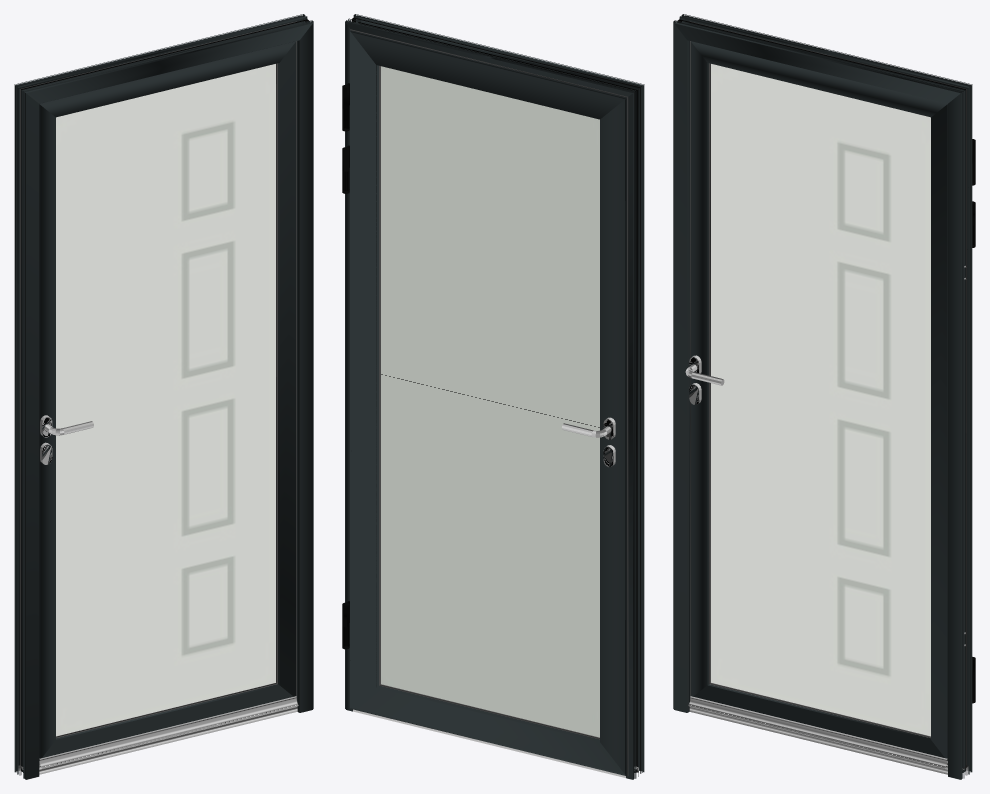
3 views of the same model, side by side, from view 1: azimuth 30°, elevation 25°; view 2: azimuth 150°, elevation 25°; view 3: azimuth 330°, elevation 25° (orthographic).
Parts seen in each view (by area): view 1: ouvrant, 30_architect; view 2: ouvrant, 30_architect; view 3: ouvrant, 30_architect.
Boxes of the visible parts, x1=… form: ouvrant: x1=20, y1=21, x2=298, y2=768; 30_architect: x1=14, y1=14, x2=313, y2=779; ouvrant: x1=342, y1=29, x2=628, y2=776; 30_architect: x1=342, y1=14, x2=644, y2=779; ouvrant: x1=688, y1=21, x2=975, y2=768; 30_architect: x1=673, y1=14, x2=975, y2=779.
Size of the model in its own units: 96 by 218 by 20.21.
1 material, 1 textured.
